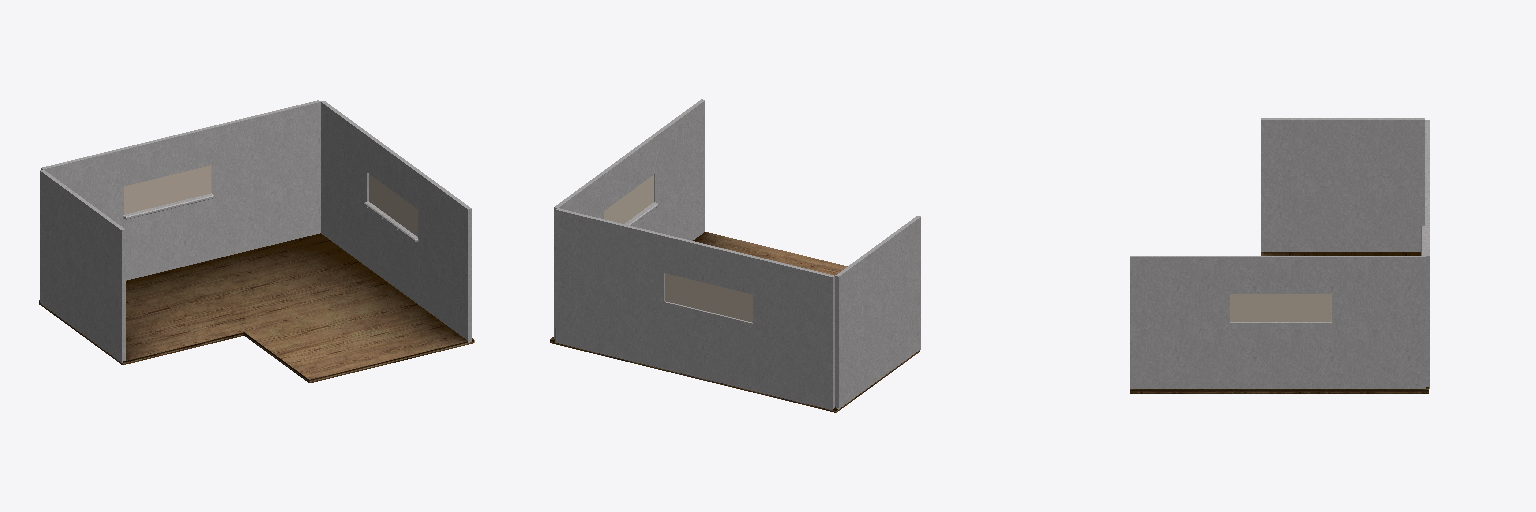
The picture shows the model from 3 angles: view 1: azimuth 30°, elevation 25°; view 2: azimuth 150°, elevation 25°; view 3: azimuth 270°, elevation 25°; orthographic projection.
Parts seen in each view (by area): view 1: Room; view 2: Room; view 3: Room.
Boxes of the visible parts, box(x1,y1,x2,y2) form: Room: box(39, 100, 474, 382); Room: box(550, 99, 920, 412); Room: box(1130, 118, 1429, 393).
Size of the model in its own units: 380 by 171 by 343.
1 materials, 1 textured.